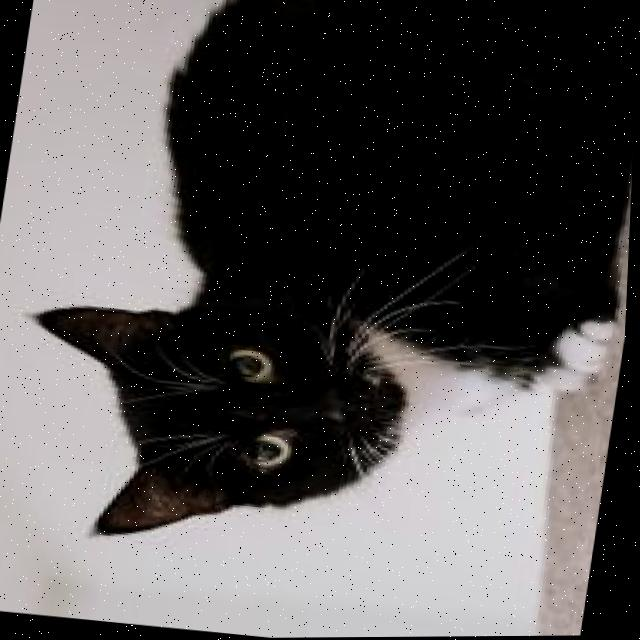Tuxedo: (0, 0, 640, 595)
